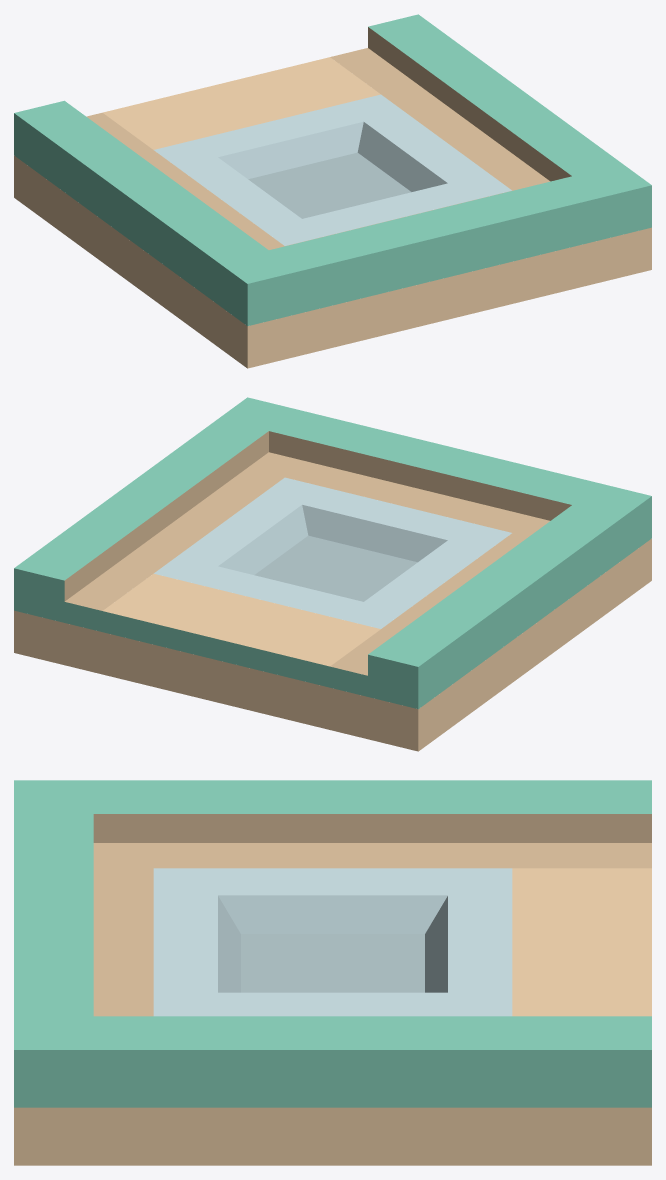
Rendered from tile_endSpawn.glb.
The picture shows the model from 3 angles, top to bottom: view 1: azimuth 30°, elevation 25°; view 2: azimuth 150°, elevation 25°; view 3: azimuth 270°, elevation 25°; orthographic projection. The views are drawn at different scales.
Visible parts, largest first — view 1: tile_endSpawn; view 2: tile_endSpawn; view 3: tile_endSpawn.
Boxes of the visible parts, left/top/right/bottom form: tile_endSpawn: left=14, top=14, right=651, bottom=368; tile_endSpawn: left=14, top=397, right=651, bottom=751; tile_endSpawn: left=14, top=780, right=651, bottom=1165.
Size of the model in its own units: 1 by 0.2 by 1.
